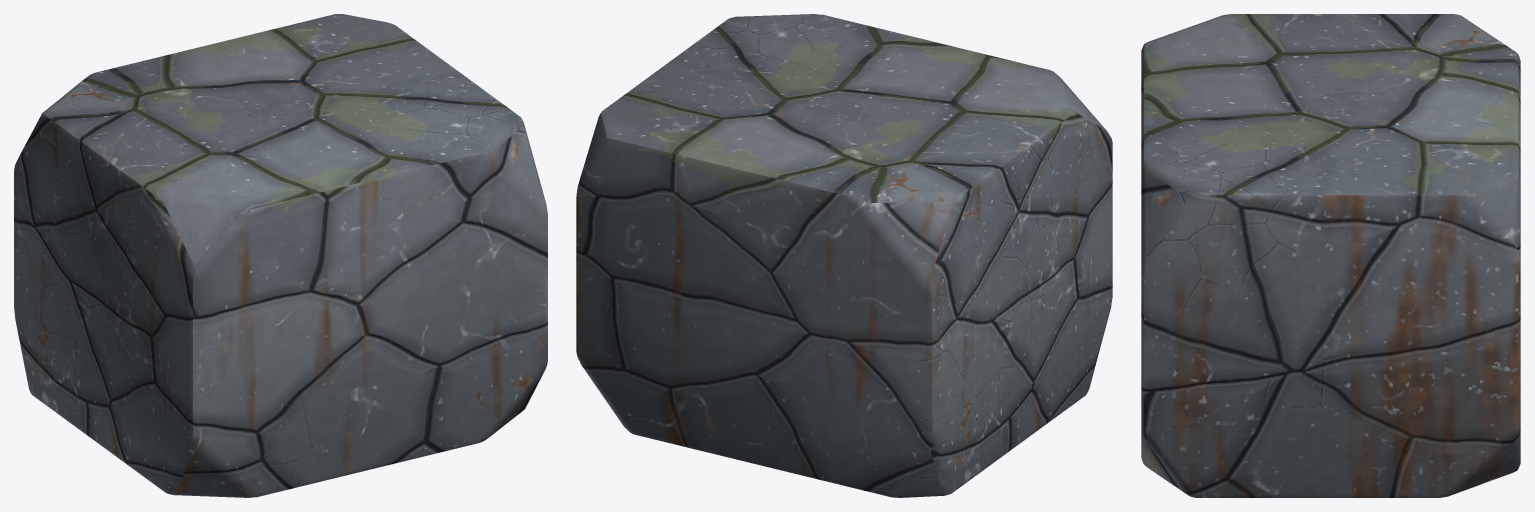
The model's file is rock_metal_large_a.glb.
3 renders of one model, left to right at view 1: azimuth 30°, elevation 25°; view 2: azimuth 150°, elevation 25°; view 3: azimuth 270°, elevation 25°, orthographic. The views are drawn at different scales.
Parts seen in each view (by area): view 1: RockMetal_large_a; view 2: RockMetal_large_a; view 3: RockMetal_large_a.
Boxes of the visible parts, x1,y1,x2,y2 form: RockMetal_large_a: [14, 14, 547, 497]; RockMetal_large_a: [576, 14, 1112, 497]; RockMetal_large_a: [1141, 14, 1520, 497].
Size of the model in its own units: 1.6 by 1.25 by 1.4.
Materials: 1 (1 with a texture image).
